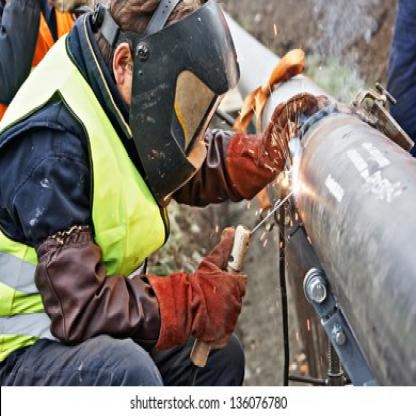with_gloves: (143, 224, 250, 351), (225, 89, 318, 204)
